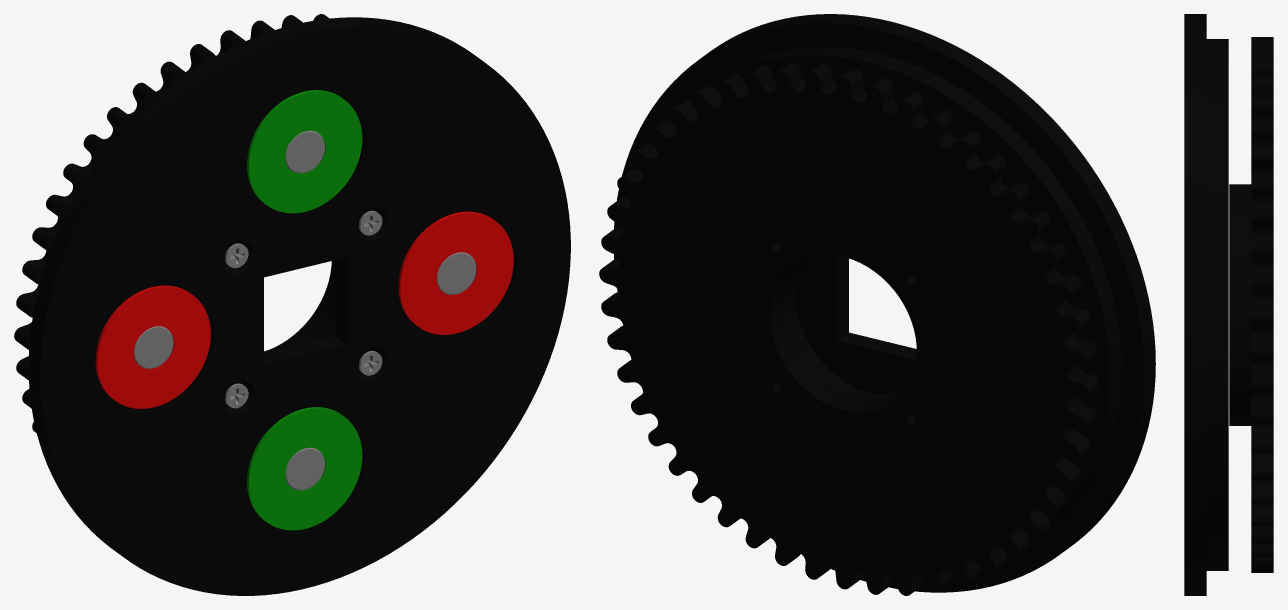
File: Wheel F Asm.dae
The picture shows the model from 3 angles, left to right: view 1: azimuth 30°, elevation 25°; view 2: azimuth 150°, elevation 25°; view 3: azimuth 270°, elevation 25°; orthographic projection. The views are drawn at different scales.
Parts seen in each view (by area): view 1: node; view 2: node; view 3: node.
Boxes of the visible parts, bbox=[...] form: node: bbox=[14, 14, 570, 595]; node: bbox=[599, 14, 1155, 595]; node: bbox=[1184, 14, 1273, 595].
Size of the model in its own units: 84.07 by 84.08 by 12.9.
